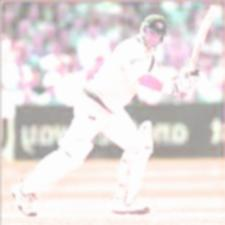batsman: (7, 1, 222, 222)
